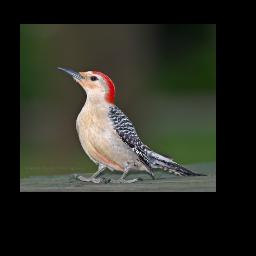Woodpecker: (54, 64, 207, 185)
